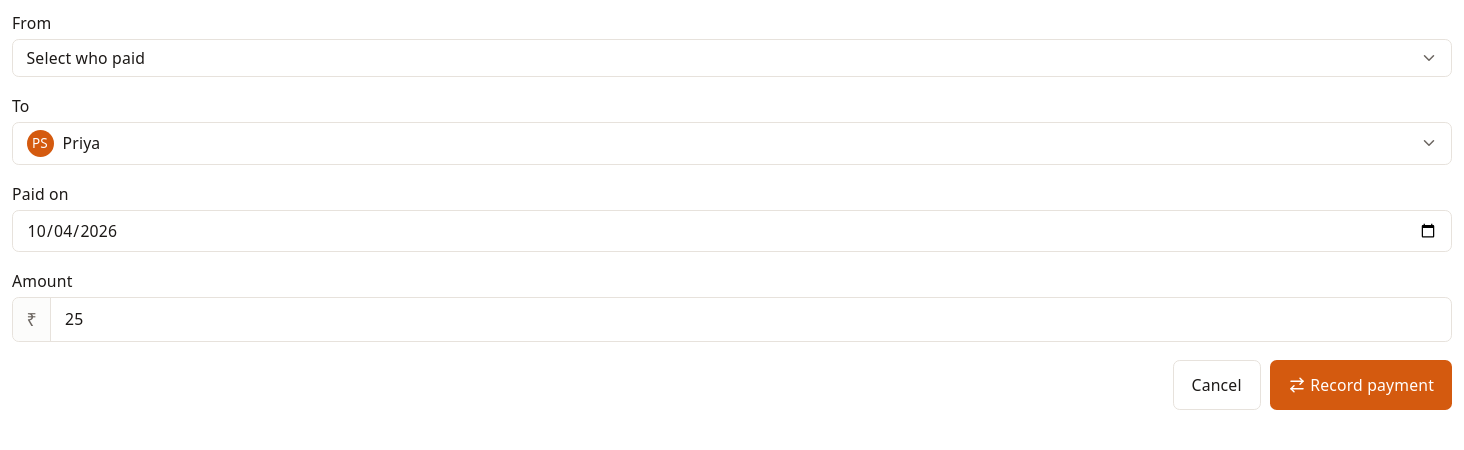
Test case: RecordPaymentForm › shows a validation error when no payer is selected
The width and height of the screenshot is (1464, 450).
Click the button "Record payment" at (1361, 385), box [1270,360,1452,410]
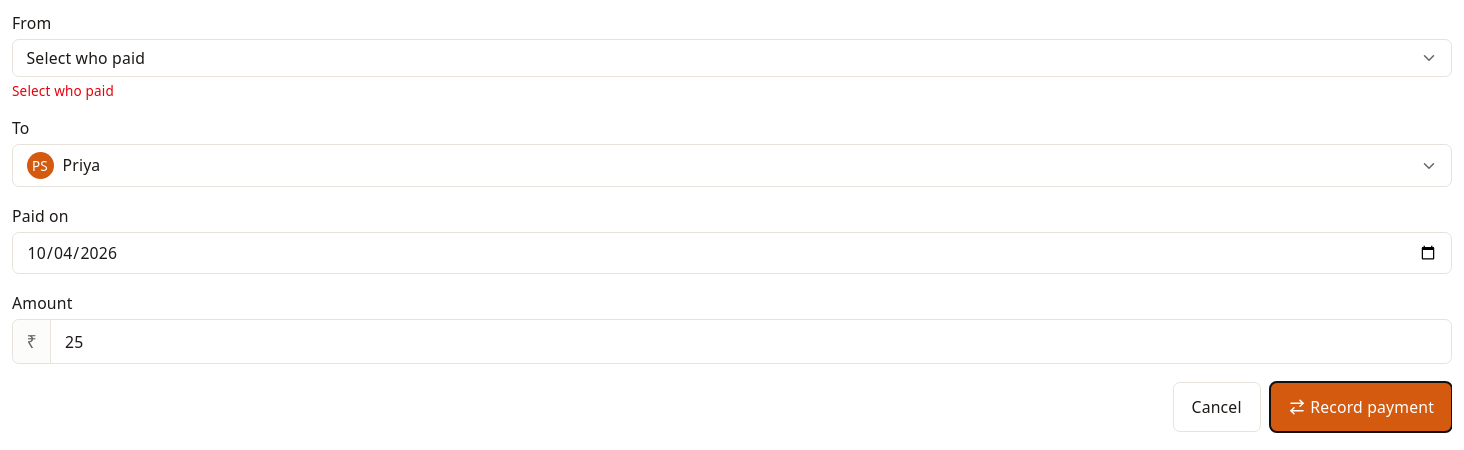
Check: the 2nd text "Select who paid" is shown, box [12,82,114,100]
